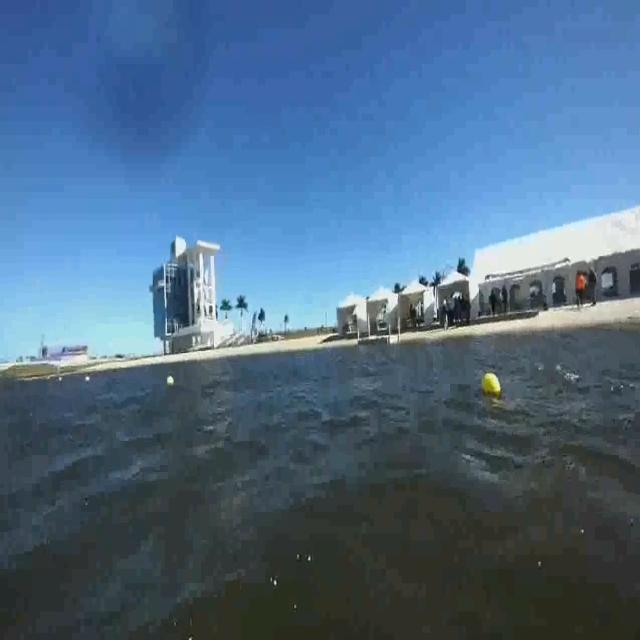yellow-buoy: (482, 372, 502, 394)
